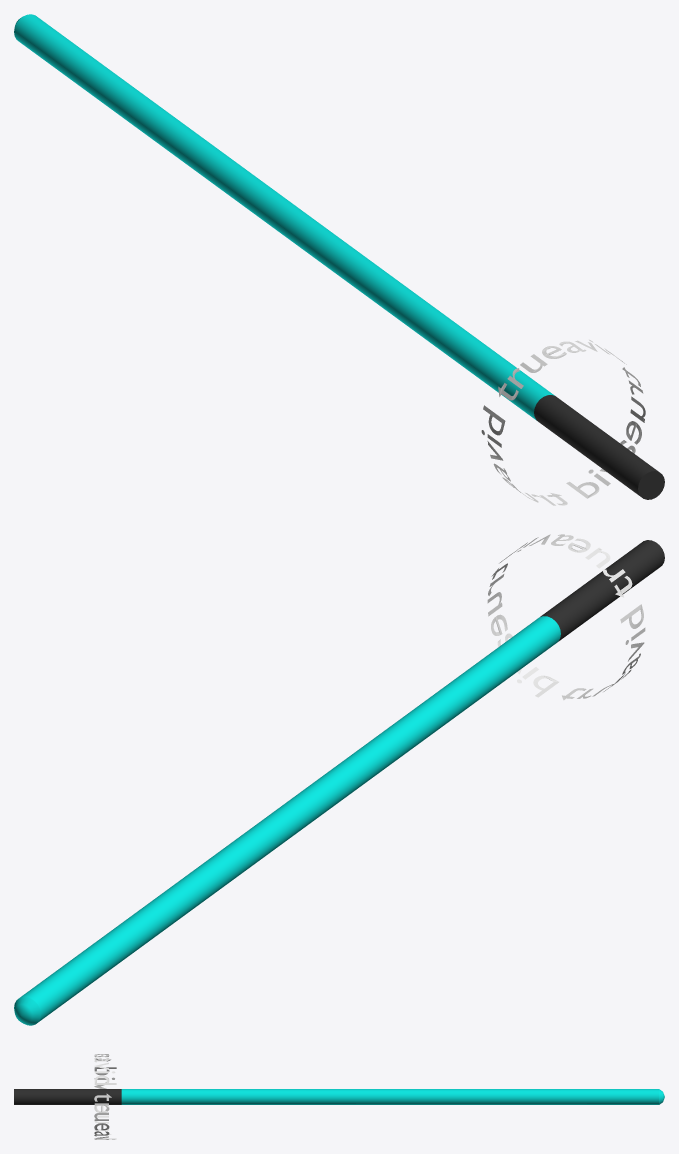
Rendered from trueavid saber.fbx.
3 views of the same model, one above another, from view 1: azimuth 30°, elevation 25°; view 2: azimuth 150°, elevation 25°; view 3: azimuth 270°, elevation 25° (orthographic). The views are drawn at different scales.
Visible parts, largest first — view 1: Saber; view 2: Saber; view 3: Saber.
Part boxes in pixels (x1,y1,x2,y2): Saber: (14,14,664,505); Saber: (14,534,664,1025); Saber: (14,1054,664,1139).
Size of the model in its own units: 16 by 16 by 121.
